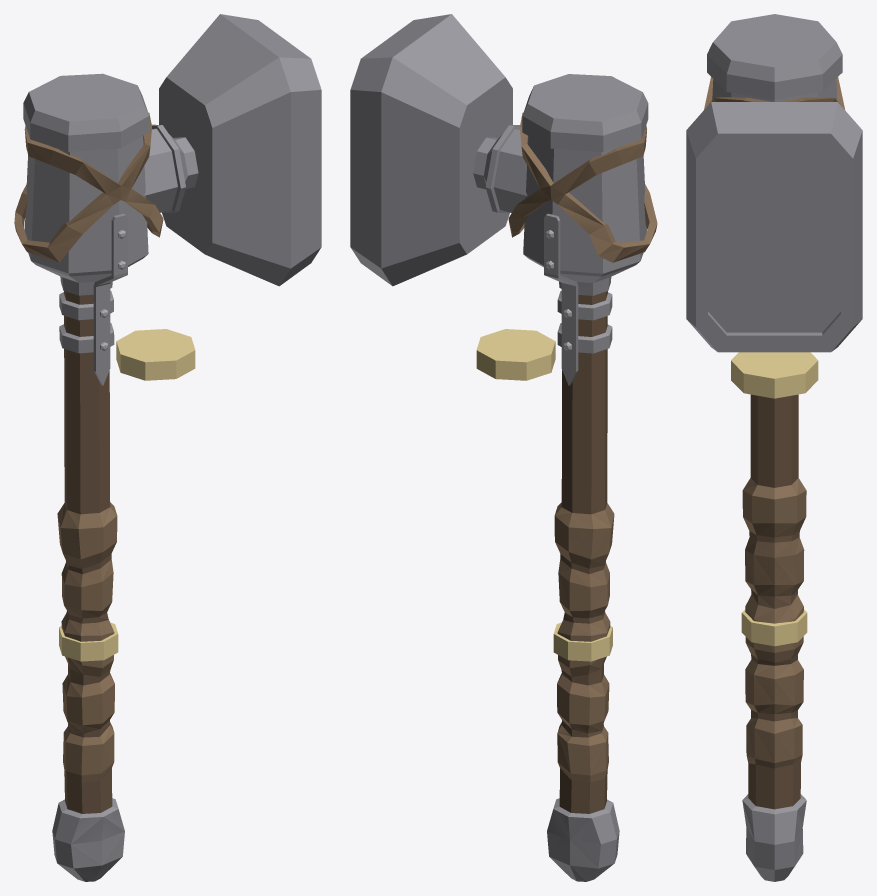
File: maza_hierro.glb
The picture shows the model from 3 angles, left to right: view 1: azimuth 30°, elevation 25°; view 2: azimuth 150°, elevation 25°; view 3: azimuth 270°, elevation 25°; orthographic projection. The views are drawn at different scales.
Parts seen in each view (by area): view 1: maza_hierro; view 2: maza_hierro; view 3: maza_hierro.
Boxes of the visible parts, x1=… form: maza_hierro: x1=14, y1=14, x2=321, y2=881; maza_hierro: x1=350, y1=14, x2=657, y2=881; maza_hierro: x1=686, y1=14, x2=862, y2=881.
Size of the model in its own units: 1.49 by 4.33 by 0.8057.
